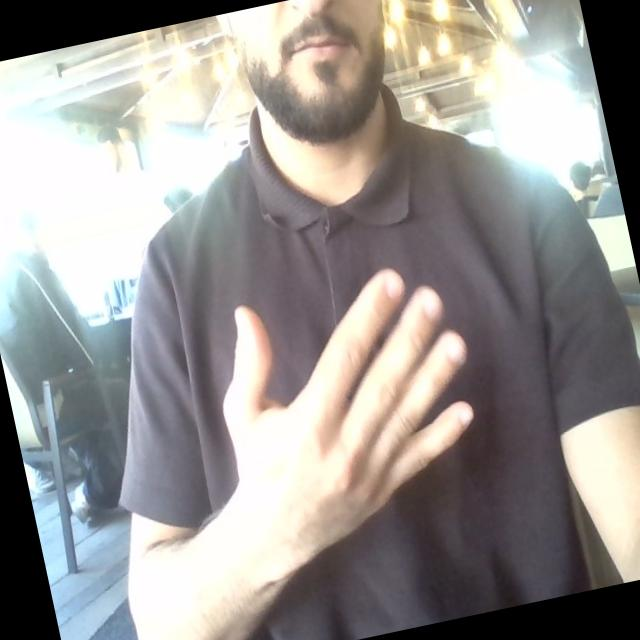Hand: (224, 270, 472, 561)
